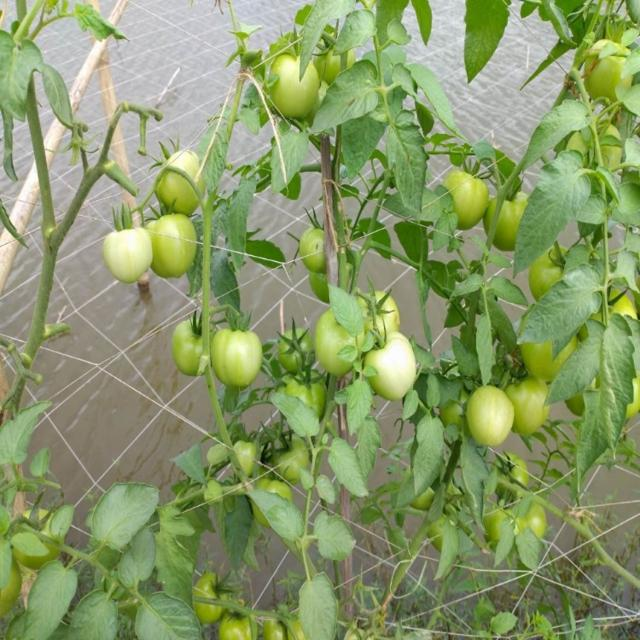tomato: (155, 144, 213, 212), (360, 336, 415, 402), (149, 216, 202, 281), (264, 60, 317, 123), (11, 511, 71, 564), (213, 326, 262, 389), (466, 385, 512, 450), (314, 310, 360, 374), (104, 221, 151, 282), (511, 374, 549, 445), (581, 41, 625, 99), (448, 168, 489, 230), (281, 368, 327, 419), (524, 336, 576, 376), (272, 434, 314, 483), (359, 289, 403, 333), (493, 191, 527, 247), (533, 246, 571, 296), (174, 320, 207, 376), (277, 325, 316, 365), (299, 226, 334, 270), (317, 37, 353, 78), (193, 575, 230, 614), (214, 608, 258, 640), (518, 499, 549, 541), (254, 474, 298, 501), (496, 454, 530, 488), (603, 288, 636, 322), (1, 562, 21, 615), (484, 513, 508, 543), (263, 616, 293, 640), (308, 272, 330, 302), (234, 441, 256, 464)
